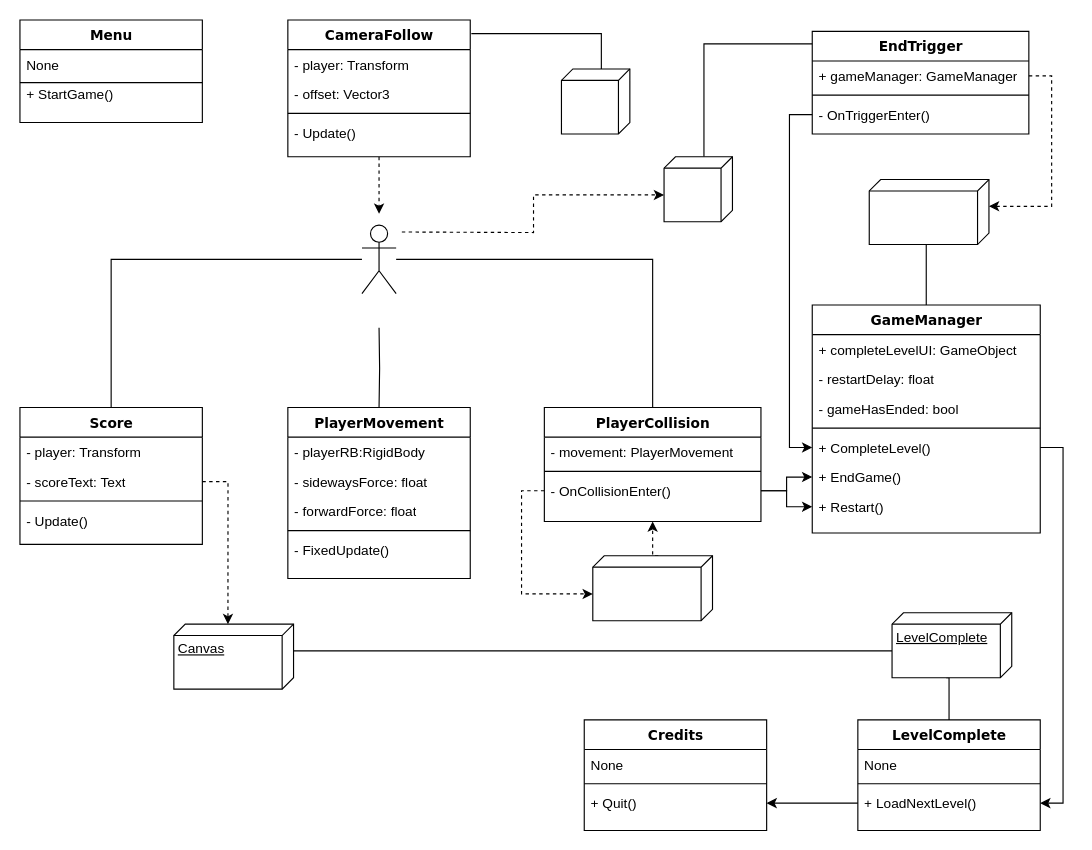
This 1092x850 diagram has some shape labels left out. Each missing label, with the centre of its shape:
"Camera" goes at pixel 595 101.
"End" goes at pixel 697 189.
"Game Manager" goes at pixel 928 211.
"Obstacle" goes at pixel 652 588.
"Player" goes at pixel 378 259.
